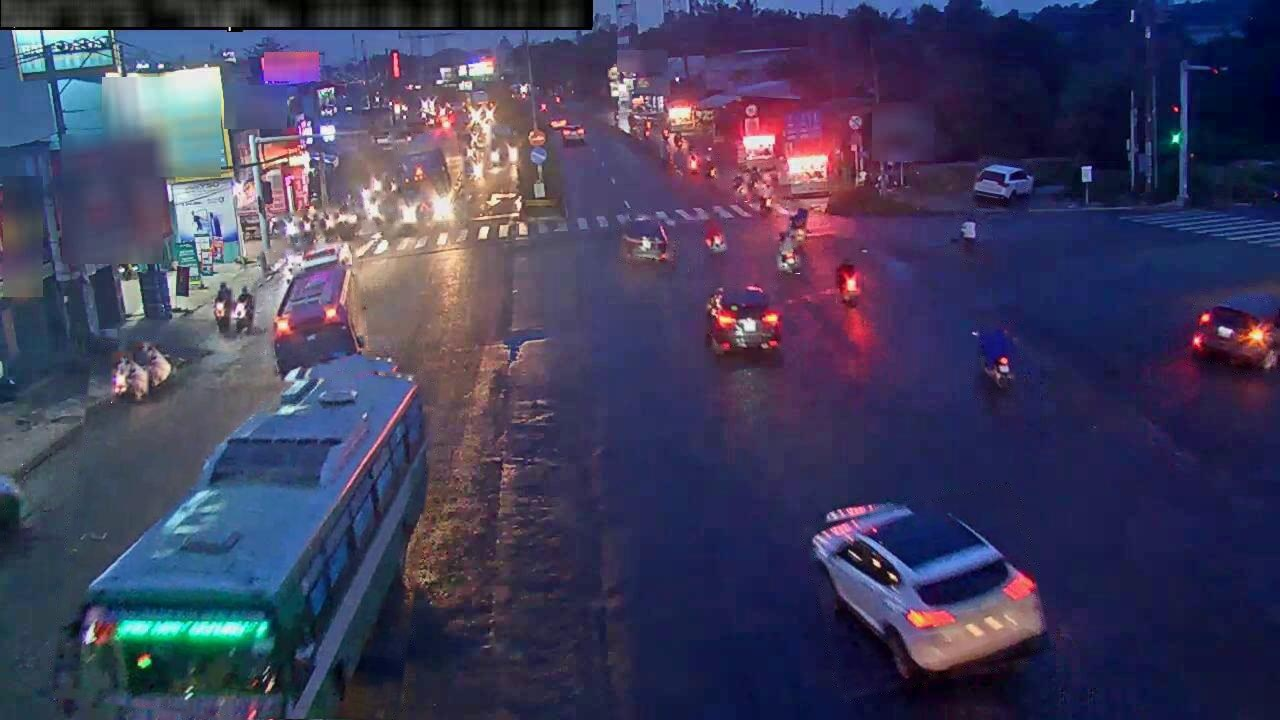Bus: (58, 350, 427, 719), (490, 125, 517, 163)
Car: (812, 502, 1046, 682), (271, 259, 366, 377), (1192, 294, 1279, 370), (704, 286, 781, 355), (621, 218, 675, 264), (973, 164, 1033, 204), (0, 474, 30, 532), (294, 243, 352, 272), (836, 262, 861, 307), (704, 219, 727, 254), (561, 125, 585, 145), (549, 115, 567, 129)
Motorcycle: (972, 328, 1017, 388), (982, 355, 1015, 389), (776, 244, 802, 275)
Motorcyclist: (111, 342, 172, 401), (951, 214, 981, 257), (231, 286, 255, 333), (213, 283, 233, 333), (788, 207, 808, 244), (365, 197, 384, 227), (757, 183, 773, 214), (335, 199, 349, 232), (279, 217, 297, 242), (732, 173, 748, 201), (319, 210, 334, 236), (748, 168, 762, 193), (348, 207, 362, 231), (703, 156, 717, 180), (299, 209, 311, 234), (370, 174, 384, 194), (688, 150, 698, 173)
Truck: (393, 129, 464, 222)
